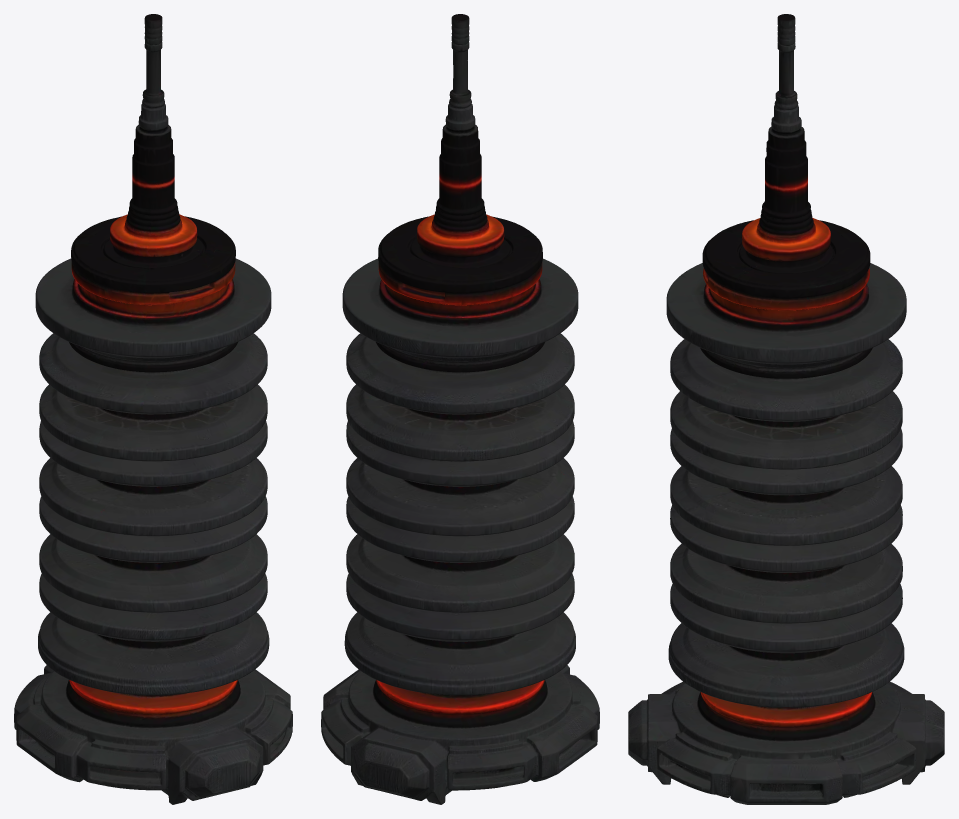
Rendered from reactor.glb.
The picture shows the model from 3 angles, left to right: view 1: azimuth 30°, elevation 25°; view 2: azimuth 150°, elevation 25°; view 3: azimuth 270°, elevation 25°; orthographic projection.
Size of the model in its own units: 0.6354 by 1.9 by 0.7292.
1 material, 1 textured.
